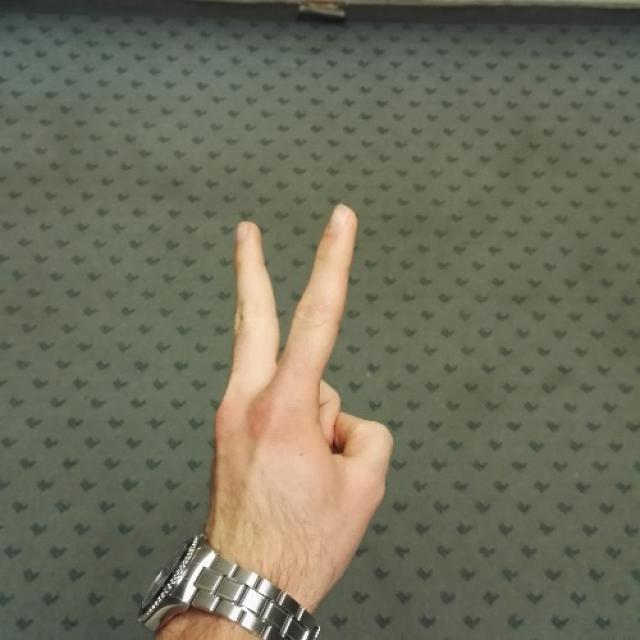scissors: (211, 205, 394, 555)
